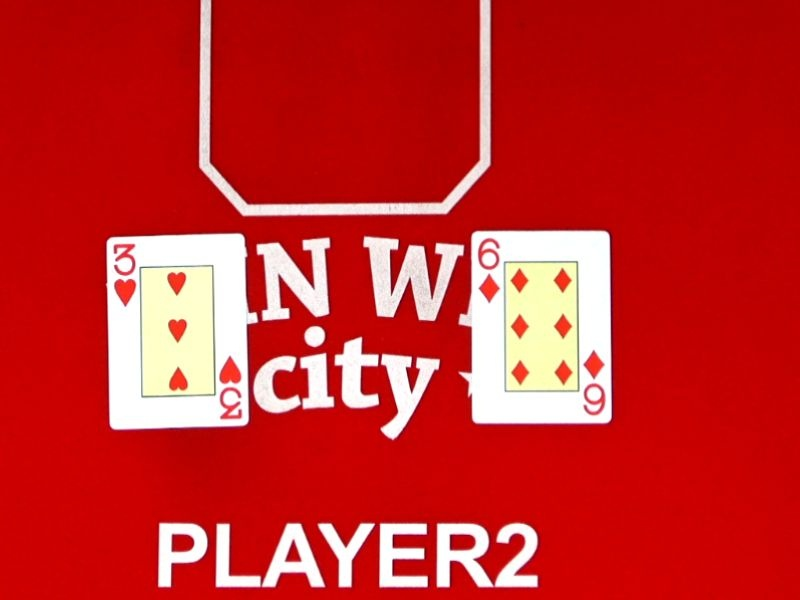3H: (86, 240, 164, 311), (195, 353, 269, 421)
6D: (447, 234, 530, 309), (556, 348, 633, 419)
